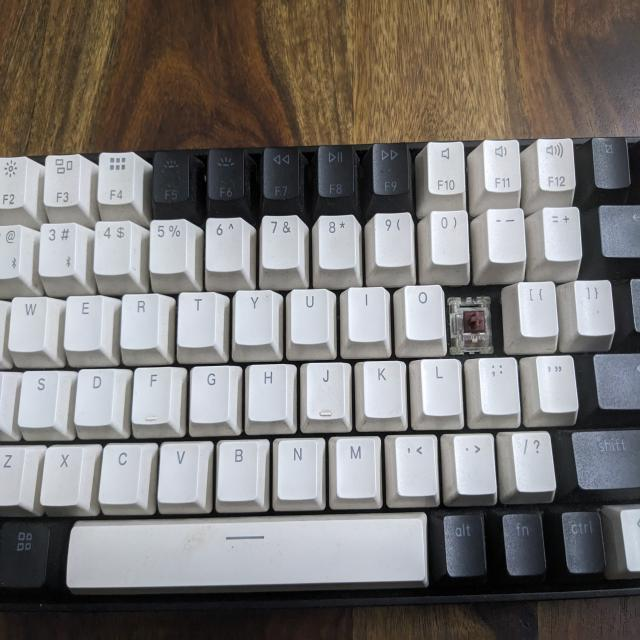key-switch: (446, 296, 495, 353)
